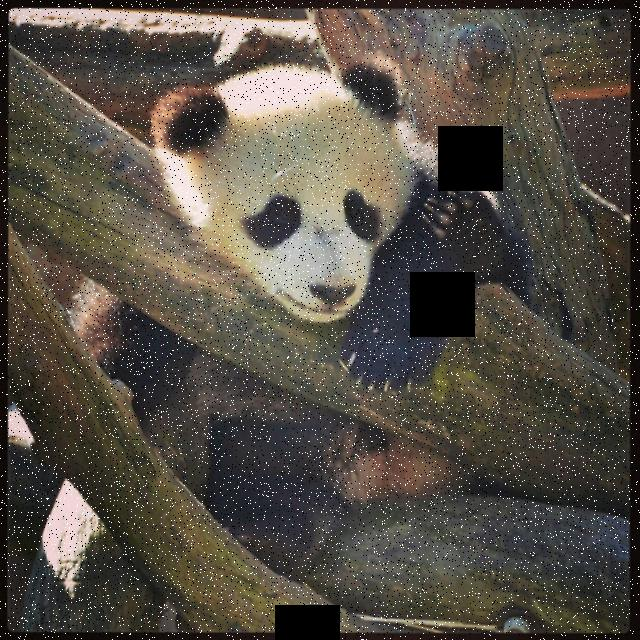Bear: (140, 52, 518, 400)
